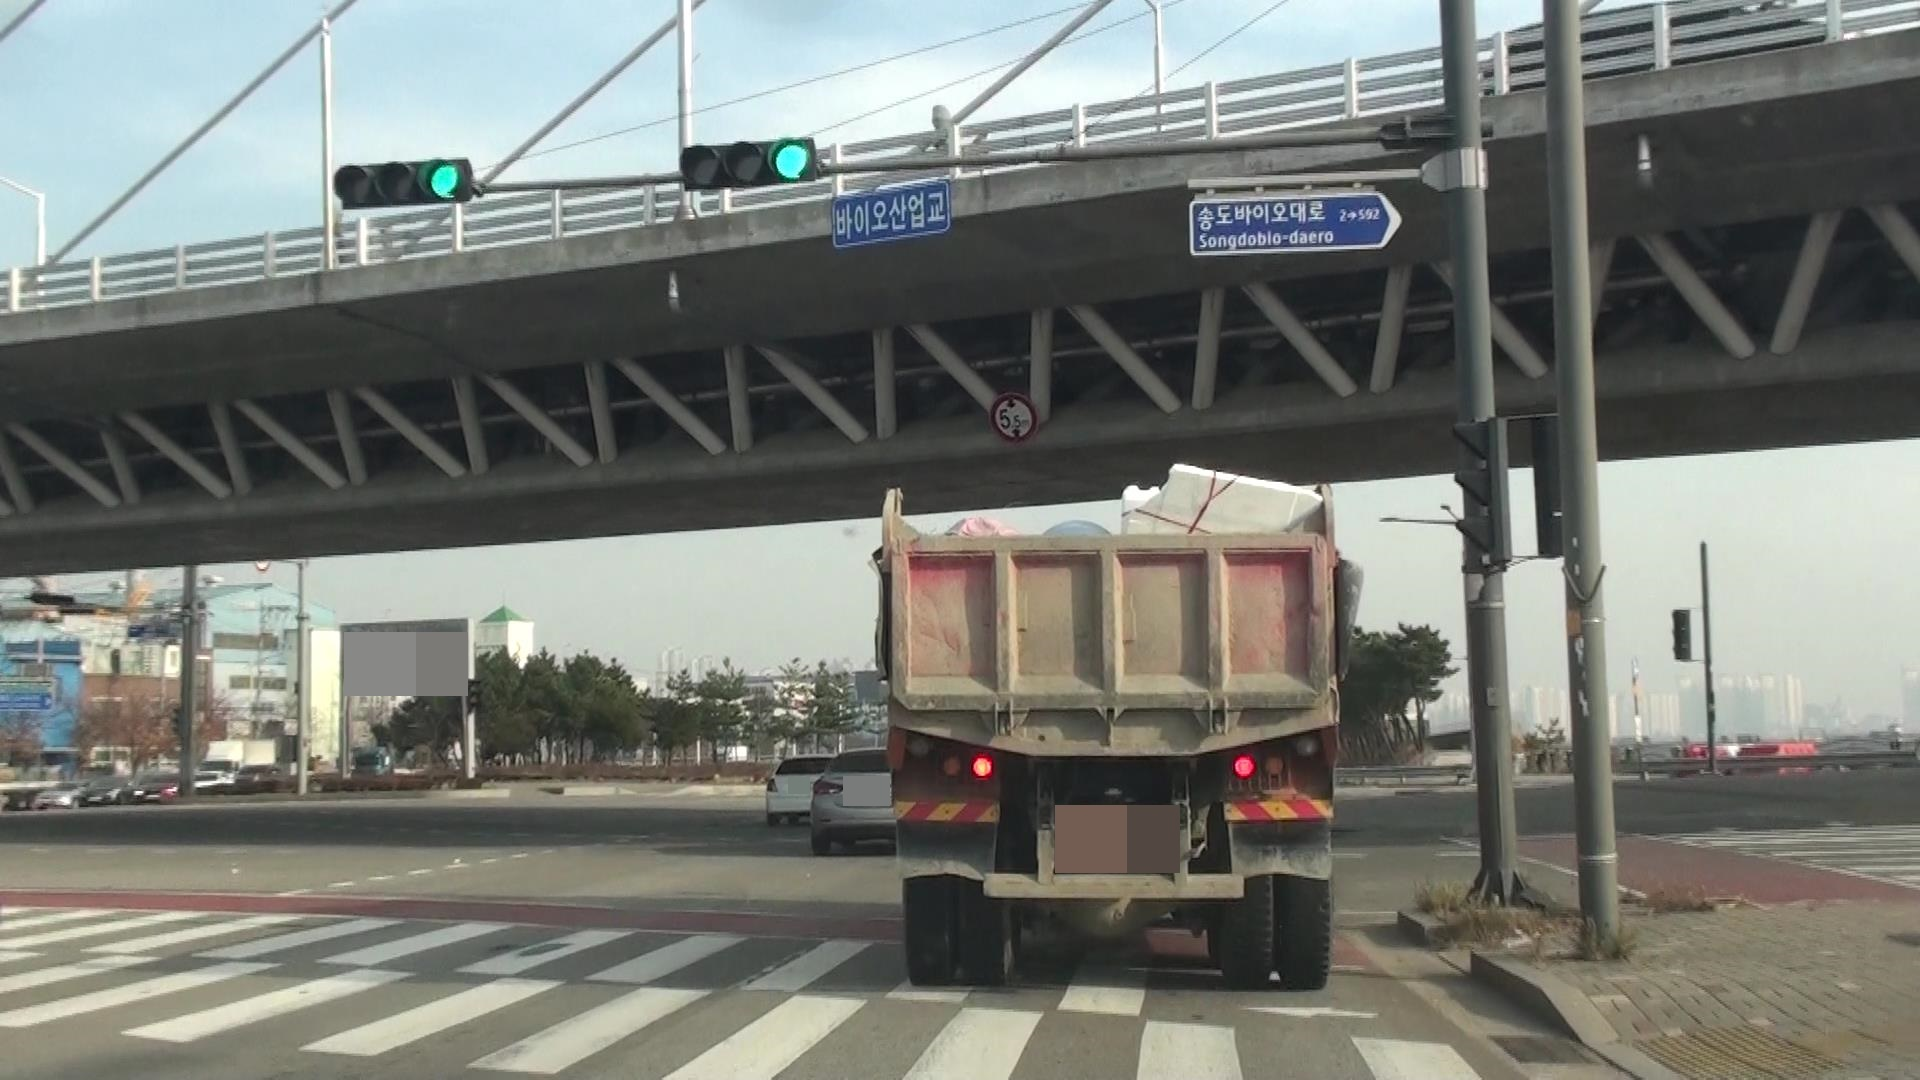불법차량: (874, 464, 1364, 988)
